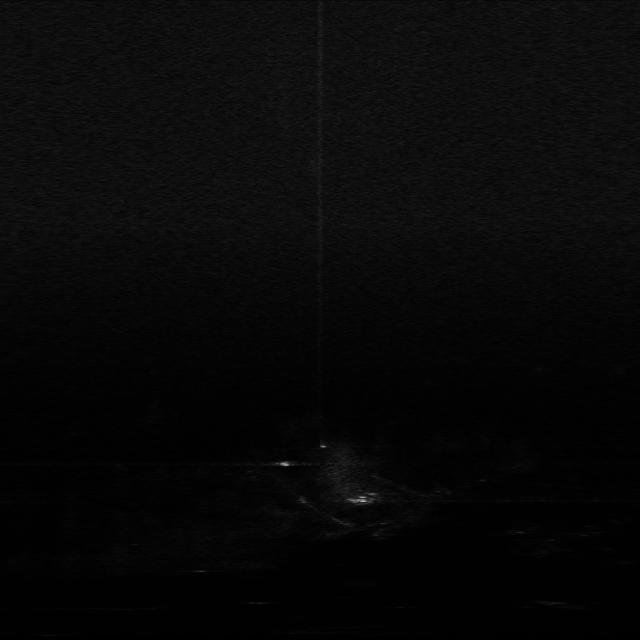rov: (347, 490, 379, 506)
